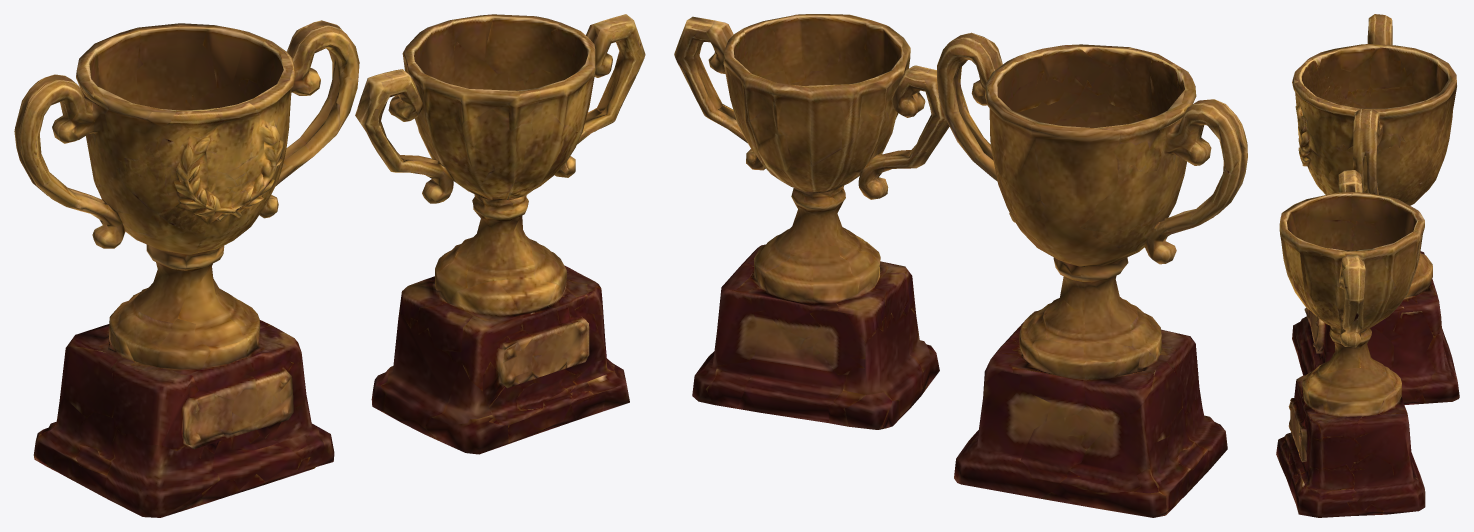
File: d_trophies.glb
3 views of the same model, side by side, from view 1: azimuth 30°, elevation 25°; view 2: azimuth 150°, elevation 25°; view 3: azimuth 270°, elevation 25° (orthographic). The views are drawn at different scales.
Bounding box in the file's own units: 1.9 × 1.23 × 0.6661.
1 material, 1 textured.
